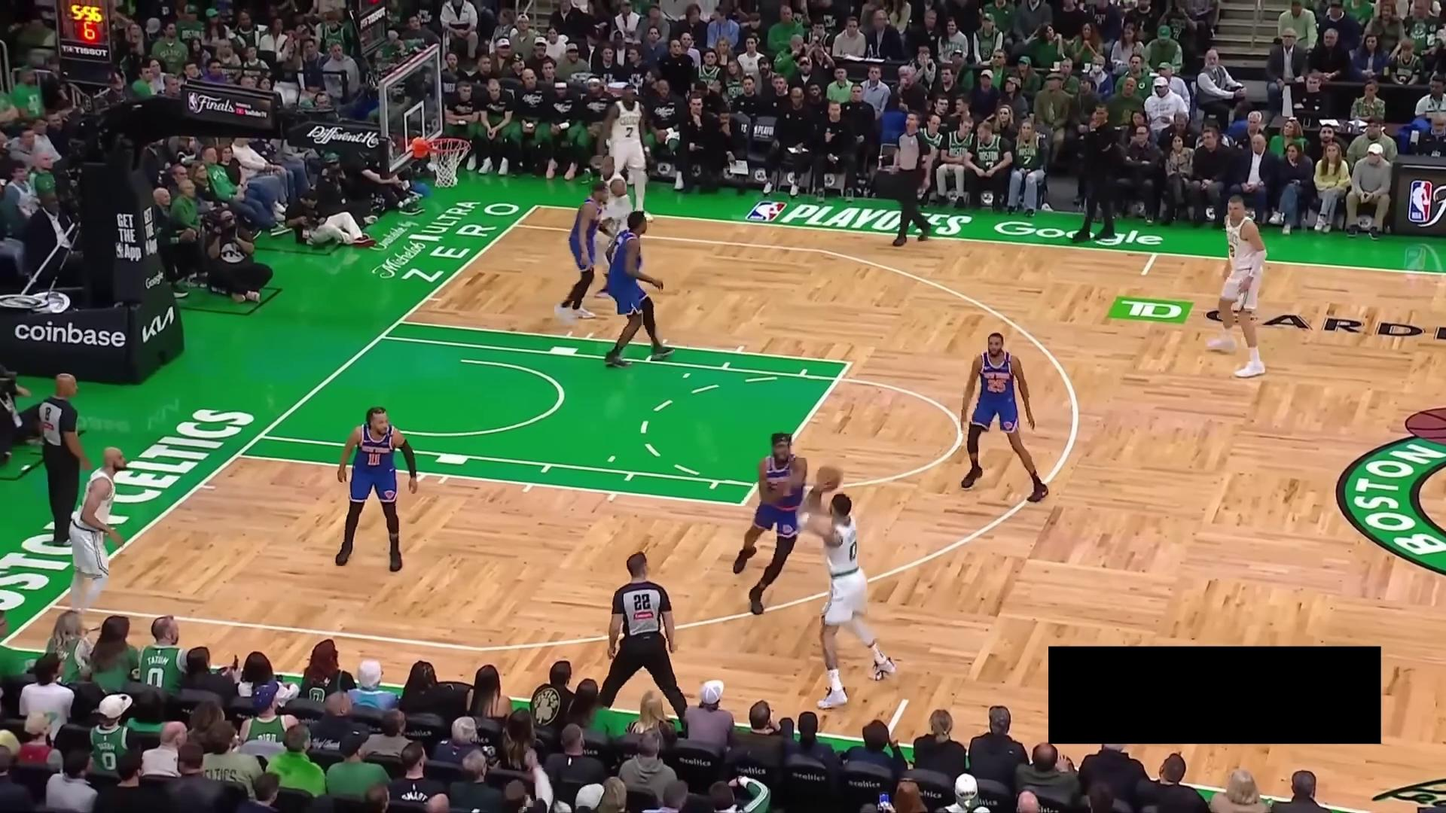ball: (815, 459, 844, 494)
number: (985, 377, 1008, 395), (847, 538, 858, 563), (367, 451, 381, 468), (1228, 243, 1236, 259), (625, 125, 634, 138)
player: (955, 333, 1049, 503), (331, 401, 420, 574), (600, 202, 680, 371), (66, 443, 133, 631), (1205, 194, 1269, 379), (593, 82, 657, 227), (552, 175, 611, 327), (586, 151, 642, 301)
player-in-possession: (787, 462, 899, 710)
player-shot-block: (726, 424, 813, 622)
referee: (594, 550, 692, 729), (40, 369, 102, 551), (890, 107, 937, 249)
rim: (426, 134, 470, 156)
